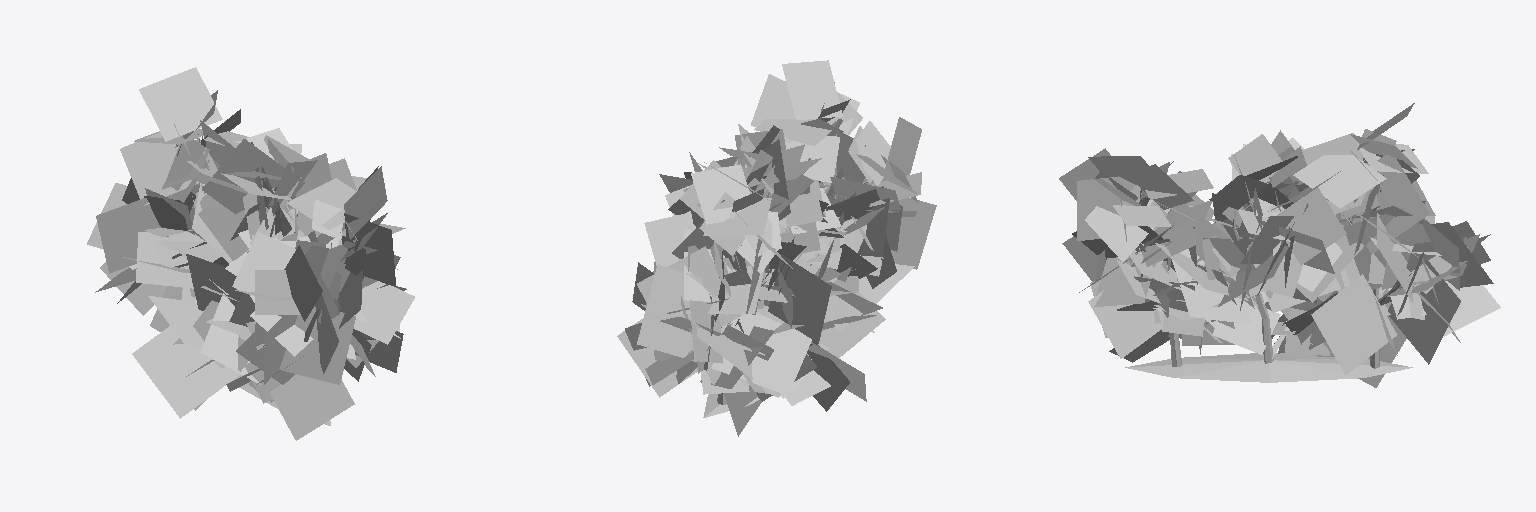
The model's file is cf_sm_boc.obj.
3 views of the same model, side by side, from view 1: azimuth 30°, elevation 25°; view 2: azimuth 150°, elevation 25°; view 3: azimuth 270°, elevation 25° (orthographic).
Visible parts, largest first — view 1: bt3, bt2, bt1; view 2: bt1, bt3, bt2; view 3: bt1, bt2, bt3, small_Cube.001.
Part boxes in pixels (bbox=[...]): bt3: bbox=[206, 166, 414, 440]; bt2: bbox=[132, 128, 366, 418]; bt1: bbox=[87, 67, 248, 331]; bt1: bbox=[617, 160, 831, 436]; bt3: bbox=[751, 60, 936, 357]; bt2: bbox=[659, 124, 882, 411]; bt1: bbox=[1264, 103, 1500, 387]; bt2: bbox=[1139, 130, 1346, 363]; bt3: bbox=[1059, 148, 1249, 366]; small_Cube.001: bbox=[1125, 353, 1412, 382].
Size of the model in its own units: 6.19 by 7.47 by 10.59.